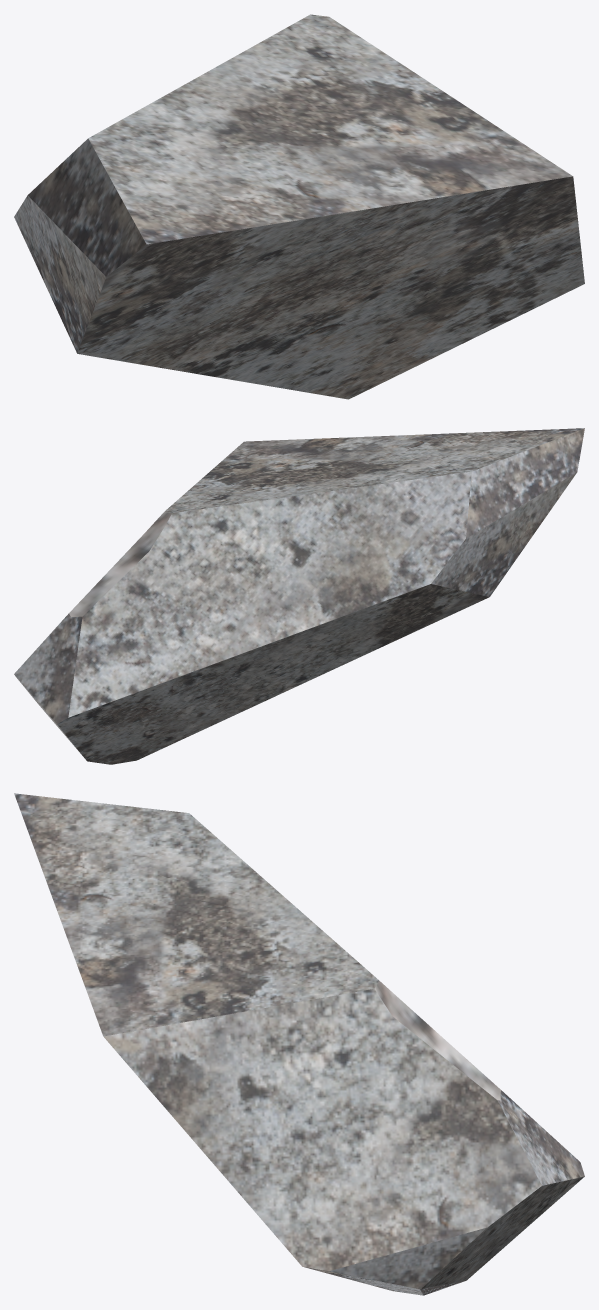
Rendered from Asteroid_Large_001_02_011_03_010.fbx.
3 views of the same model, one above another, from view 1: azimuth 30°, elevation 25°; view 2: azimuth 150°, elevation 25°; view 3: azimuth 270°, elevation 25° (orthographic). The views are drawn at different scales.
Visible parts, largest first — view 1: Asteroid_Large_001_02_011_03_010; view 2: Asteroid_Large_001_02_011_03_010; view 3: Asteroid_Large_001_02_011_03_010.
Boxes of the visible parts, left/top/right/bottom form: Asteroid_Large_001_02_011_03_010: left=14, top=14, right=584, bottom=399; Asteroid_Large_001_02_011_03_010: left=14, top=428, right=584, bottom=764; Asteroid_Large_001_02_011_03_010: left=14, top=793, right=584, bottom=1295.
Size of the model in its own units: 12.79 by 8.65 by 13.33.
